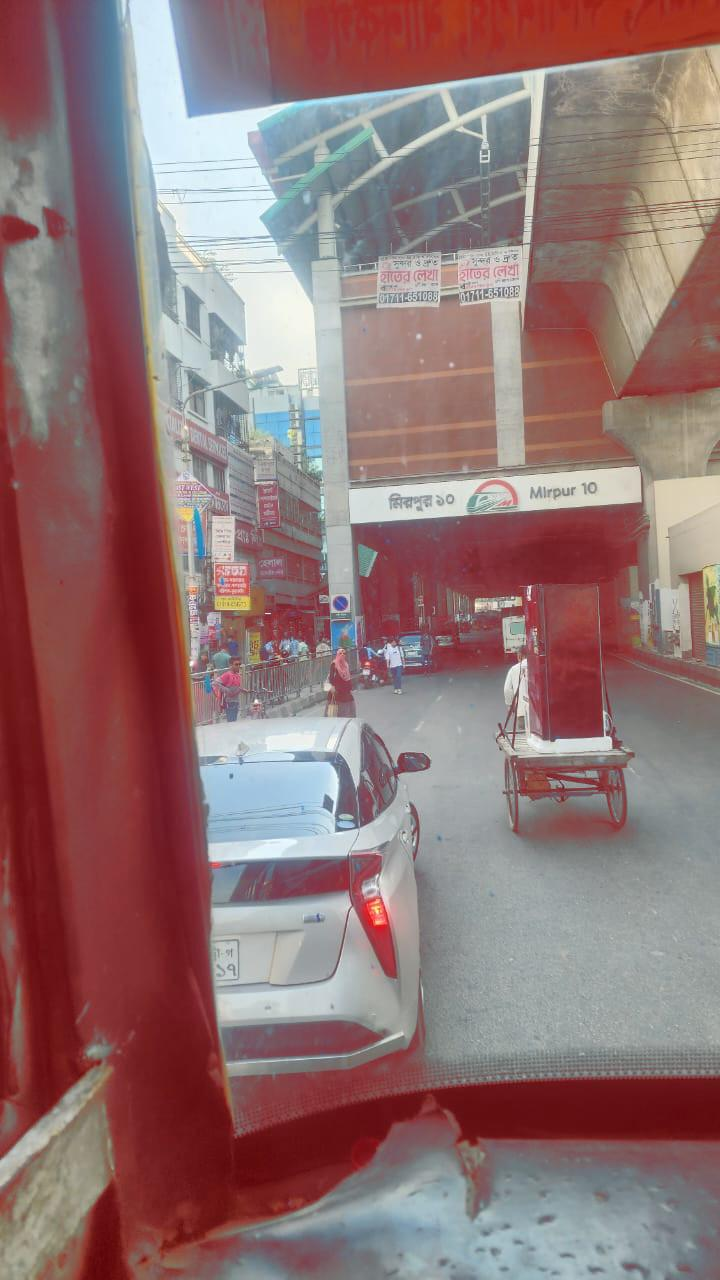No Parking: (330, 588, 354, 620)
